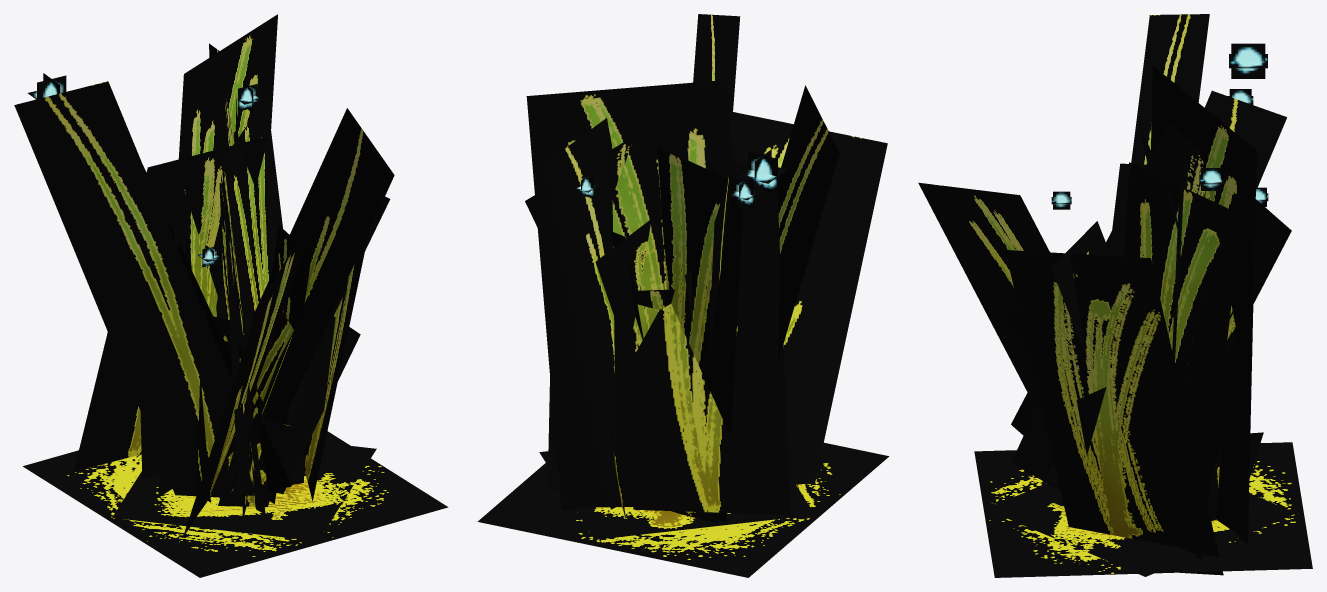
The model's file is grass46.fbx.
3 views of the same model, side by side, from view 1: azimuth 30°, elevation 25°; view 2: azimuth 150°, elevation 25°; view 3: azimuth 270°, elevation 25° (orthographic).
Parts seen in each view (by area): view 1: Glowing Flower 5_BAKED; view 2: Glowing Flower 5_BAKED; view 3: Glowing Flower 5_BAKED.
Boxes of the visible parts, left/top/right/bottom form: Glowing Flower 5_BAKED: left=14, top=14, right=448, bottom=577; Glowing Flower 5_BAKED: left=477, top=14, right=888, bottom=577; Glowing Flower 5_BAKED: left=918, top=14, right=1312, bottom=577.
Size of the model in its own units: 46.62 by 45.14 by 61.71.
